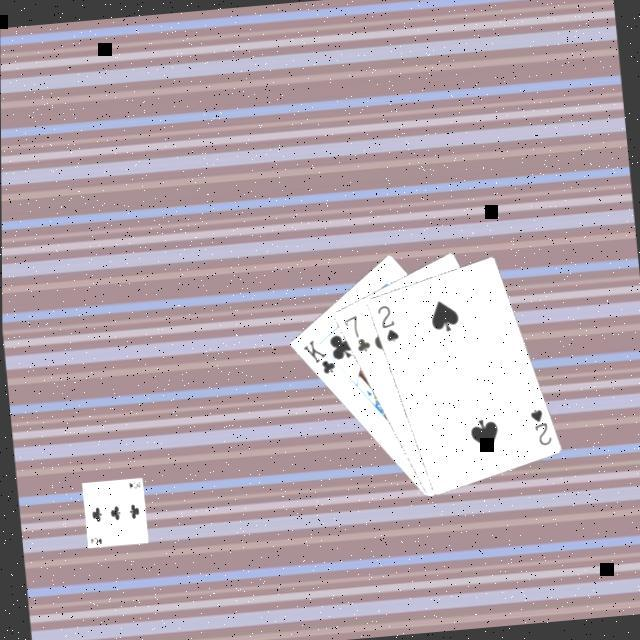2S: (370, 301, 400, 347), (523, 404, 553, 450)
7C: (338, 312, 372, 357)
KC: (297, 334, 343, 380)
